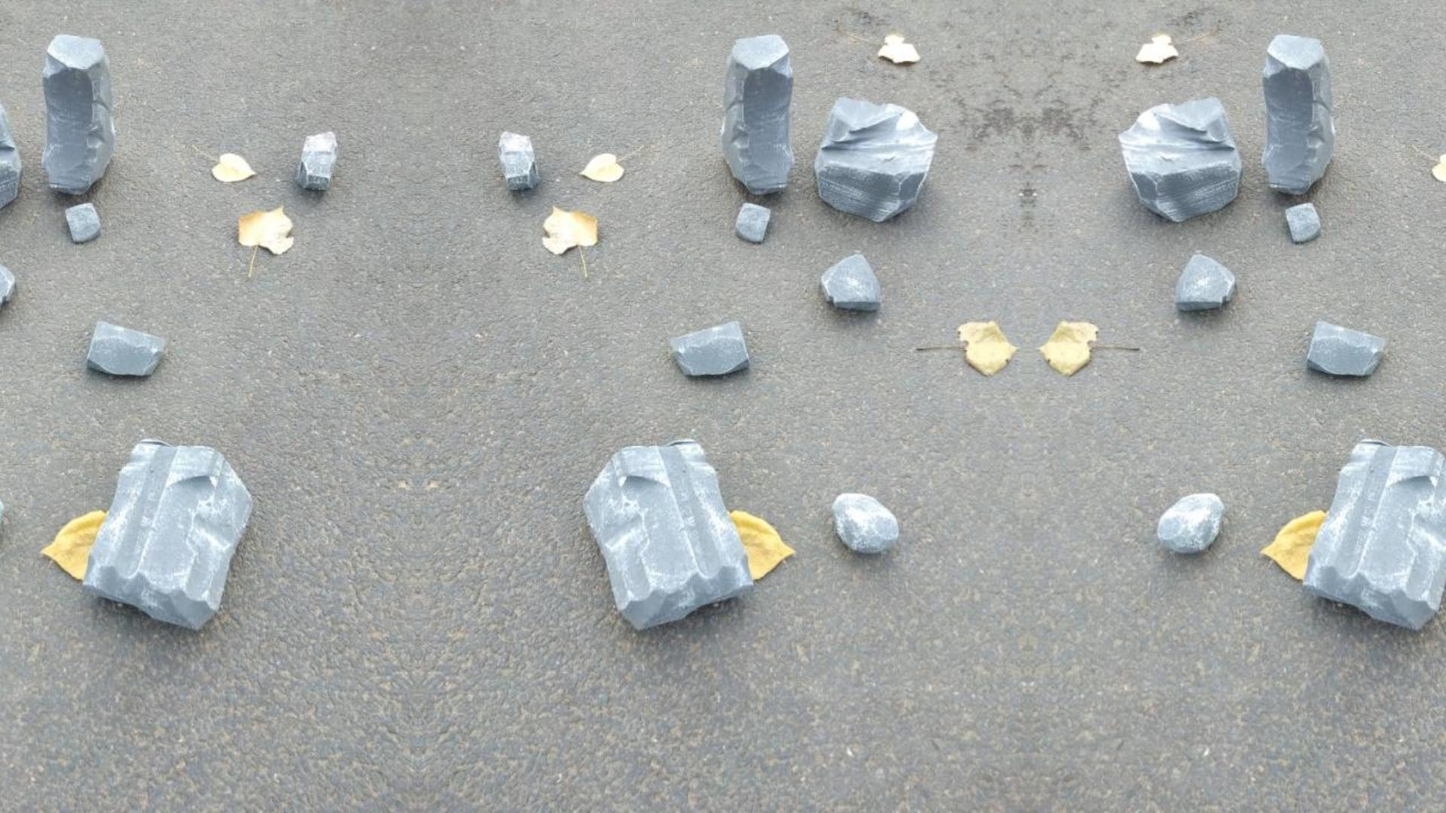rock: (584, 440, 751, 629), (84, 440, 251, 629), (1304, 440, 1445, 629), (815, 97, 937, 221), (1118, 97, 1240, 221), (720, 35, 793, 194), (42, 35, 115, 193), (1262, 35, 1335, 193), (1307, 321, 1386, 375), (669, 322, 748, 375), (87, 321, 164, 375), (1157, 493, 1223, 553), (831, 493, 898, 552), (820, 253, 880, 309), (1175, 254, 1234, 309), (295, 131, 336, 190), (499, 132, 538, 191), (0, 105, 20, 208), (735, 203, 770, 243), (1284, 203, 1319, 243), (64, 203, 99, 242), (0, 264, 15, 307), (0, 500, 5, 550)
